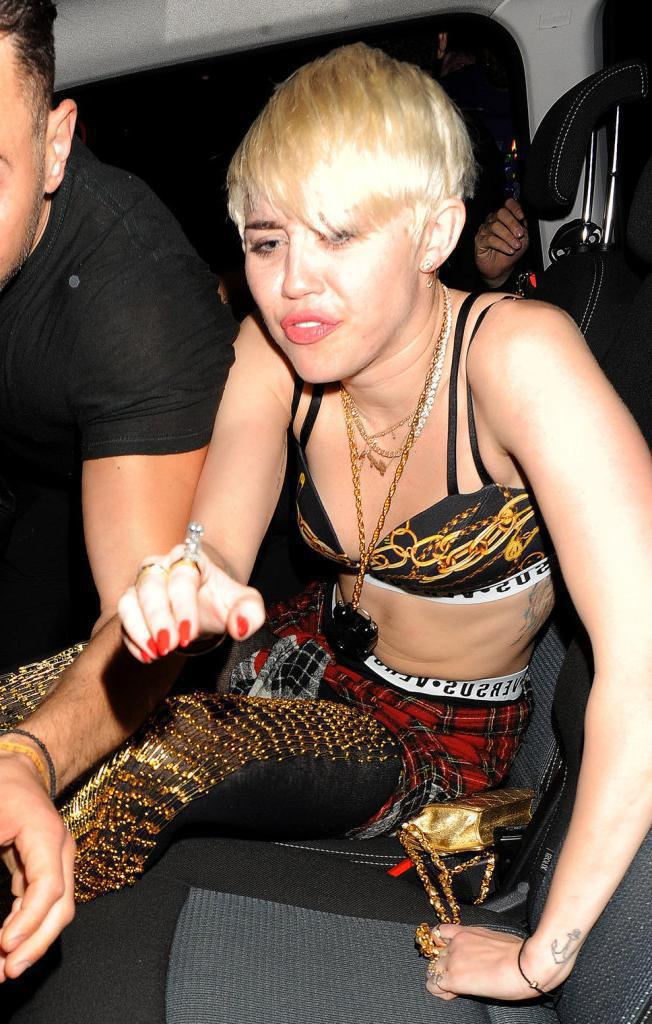Drunk: (251, 158, 418, 377)
